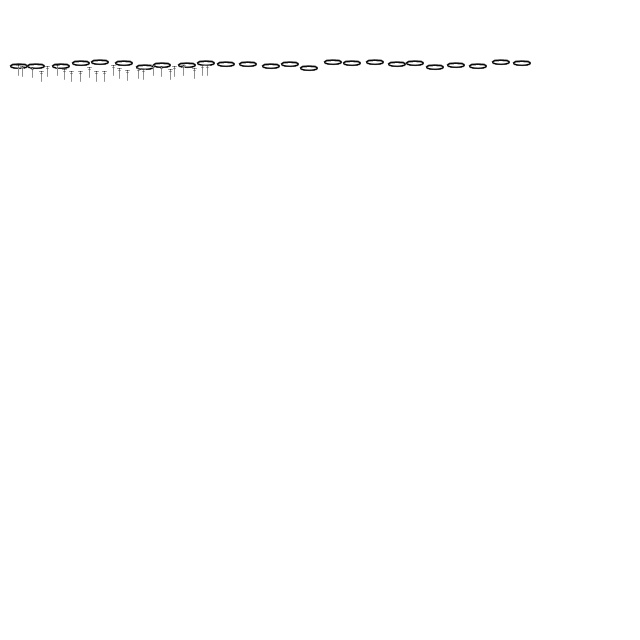chain: (8, 62, 30, 72), (25, 62, 47, 72), (50, 62, 72, 72), (89, 58, 111, 68), (215, 60, 237, 70), (237, 60, 259, 70), (260, 62, 282, 72), (279, 60, 301, 70), (298, 64, 320, 74), (322, 58, 344, 68), (364, 58, 386, 68), (386, 60, 408, 70), (467, 62, 489, 72), (490, 58, 512, 68), (70, 60, 92, 68), (113, 60, 135, 68), (134, 64, 156, 72), (151, 62, 173, 70), (176, 62, 198, 70), (195, 60, 217, 68), (341, 60, 363, 68), (404, 60, 426, 68), (424, 64, 446, 72), (445, 62, 467, 70), (511, 60, 533, 68)
double treble: (20, 66, 26, 78), (136, 68, 142, 80), (172, 66, 178, 78), (192, 68, 198, 80), (16, 66, 22, 76), (30, 68, 36, 78), (62, 70, 68, 80), (78, 72, 84, 82), (94, 72, 100, 82), (102, 72, 108, 82), (168, 70, 174, 80), (200, 66, 206, 76), (46, 66, 50, 78), (118, 68, 122, 80), (126, 70, 130, 82), (160, 66, 164, 78), (40, 72, 44, 82), (56, 66, 60, 76), (70, 72, 74, 82), (88, 68, 92, 78), (112, 66, 116, 76), (142, 70, 146, 80), (152, 66, 156, 76), (182, 66, 186, 76), (206, 66, 210, 76)
